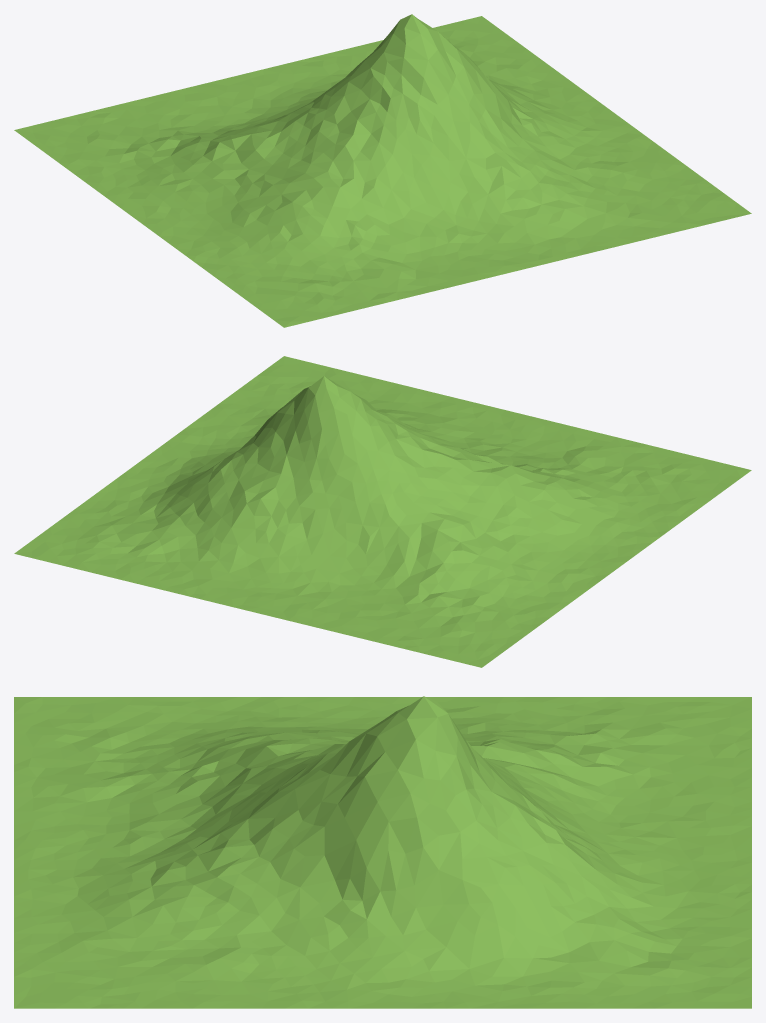
Rendered from MT_Terrain_L_a_36_LOD.fbx.
The picture shows the model from 3 angles, top to bottom: view 1: azimuth 30°, elevation 25°; view 2: azimuth 150°, elevation 25°; view 3: azimuth 270°, elevation 25°; orthographic projection. The views are drawn at different scales.
Parts seen in each view (by area): view 1: MT_Terrain_L_a_36_LOD0; view 2: MT_Terrain_L_a_36_LOD0; view 3: MT_Terrain_L_a_36_LOD0.
Boxes of the visible parts, left/top/right/bottom form: MT_Terrain_L_a_36_LOD0: left=14, top=14, right=751, bottom=327; MT_Terrain_L_a_36_LOD0: left=14, top=356, right=751, bottom=667; MT_Terrain_L_a_36_LOD0: left=14, top=696, right=751, bottom=1008.
Size of what is drawn, in the model's own units: 10000 by 2797 by 10000.
